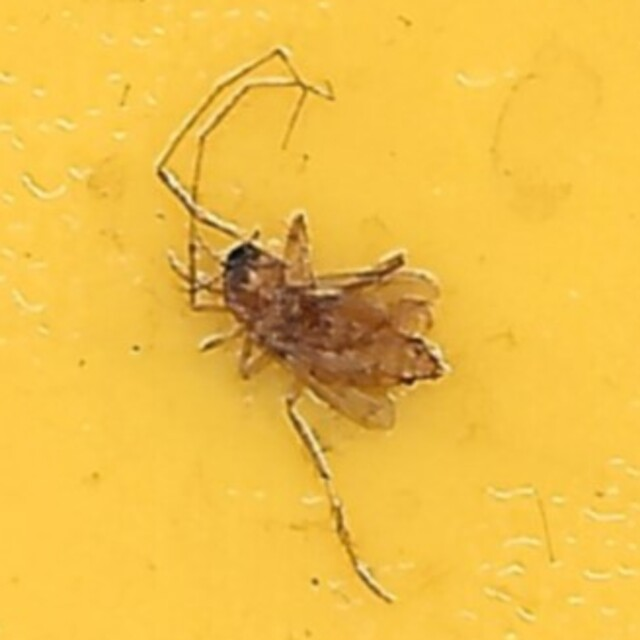Nematocera: (195, 197, 445, 443)
